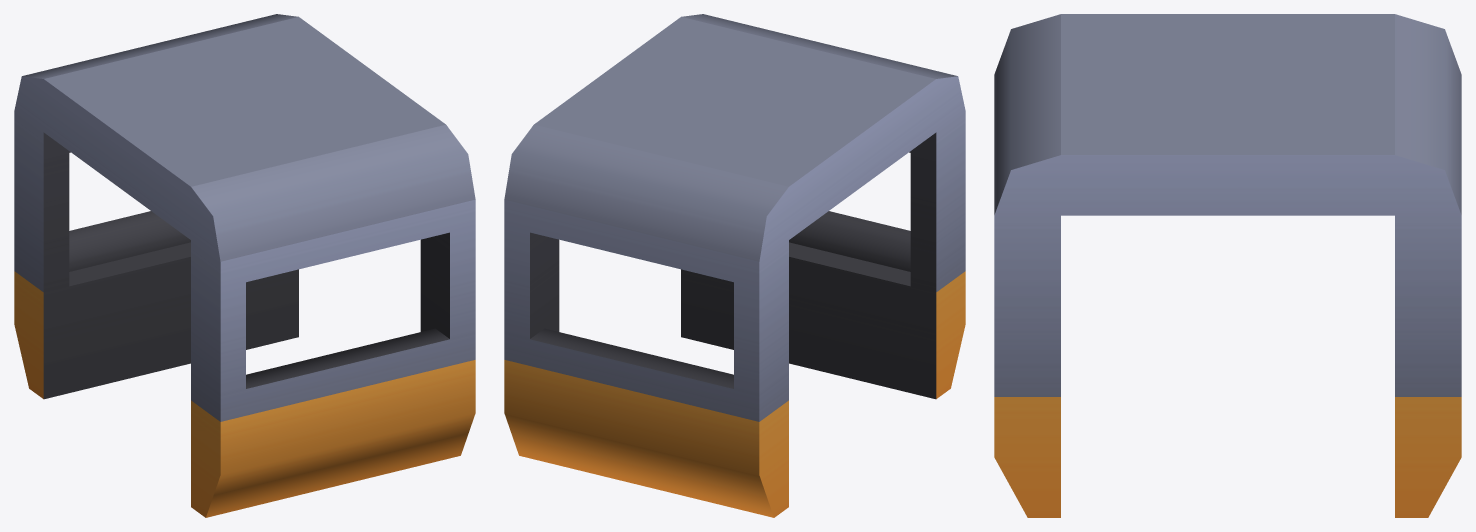
The picture shows the model from 3 angles, left to right: view 1: azimuth 30°, elevation 25°; view 2: azimuth 150°, elevation 25°; view 3: azimuth 270°, elevation 25°; orthographic projection. The views are drawn at different scales.
Parts seen in each view (by area): view 1: cover_stripe_window; view 2: cover_stripe_window; view 3: cover_stripe_window.
Boxes of the visible parts, box(x1,y1,x2,y2) form: cover_stripe_window: box(14, 14, 475, 517); cover_stripe_window: box(504, 14, 965, 517); cover_stripe_window: box(994, 14, 1461, 517).
Bounding box in the file's own units: 1 × 1.2 × 1.4.
Materials: 1 (1 with a texture image).
